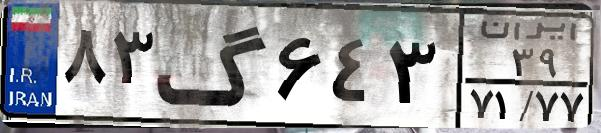1: (495, 70, 520, 125)
3: (385, 28, 445, 110), (110, 28, 156, 98), (508, 27, 537, 80)
4: (330, 28, 385, 110)
6: (270, 28, 330, 110)
7: (560, 70, 590, 125), (470, 70, 495, 125), (535, 70, 560, 125)
8: (57, 26, 110, 100)
9: (537, 27, 568, 80)
گ: (156, 12, 270, 120)
